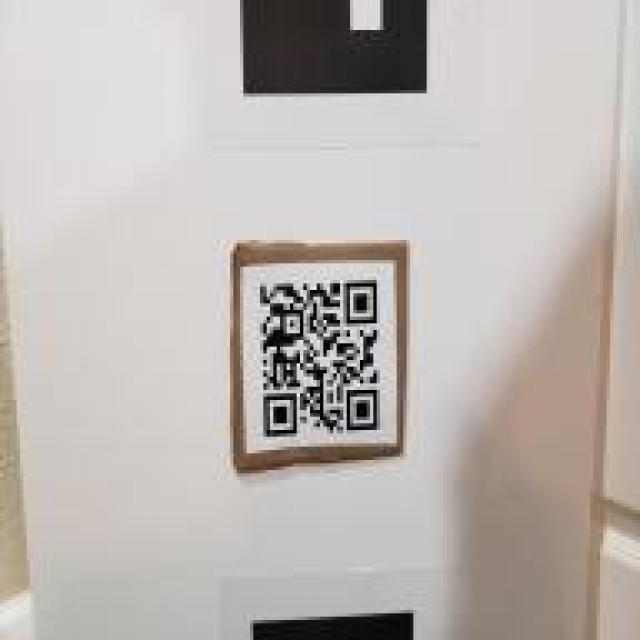qr_code: (260, 279, 380, 437)
